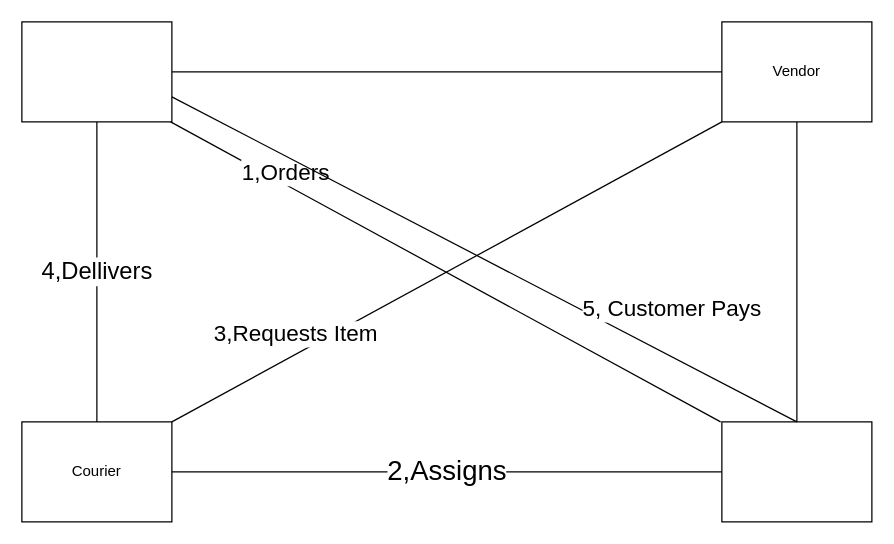
Some shapes in this 894 by 544 pixel diagram are drawn without their labels. The centre of each missing label's shape, as x and y in pixels:
"Customer" goes at pixel 96 71.
"Manager" goes at pixel 796 471.
